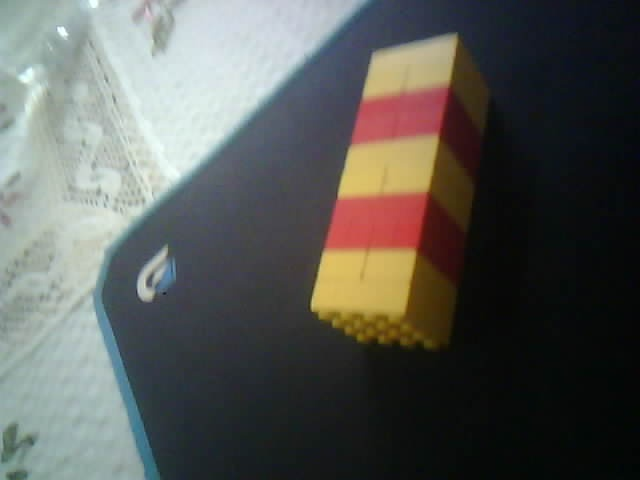lego: (309, 31, 492, 352)
